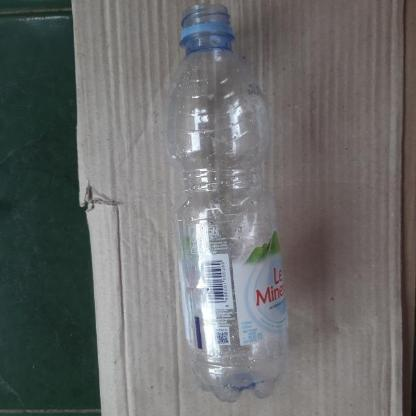Plastic Bottle: (164, 1, 289, 402)
